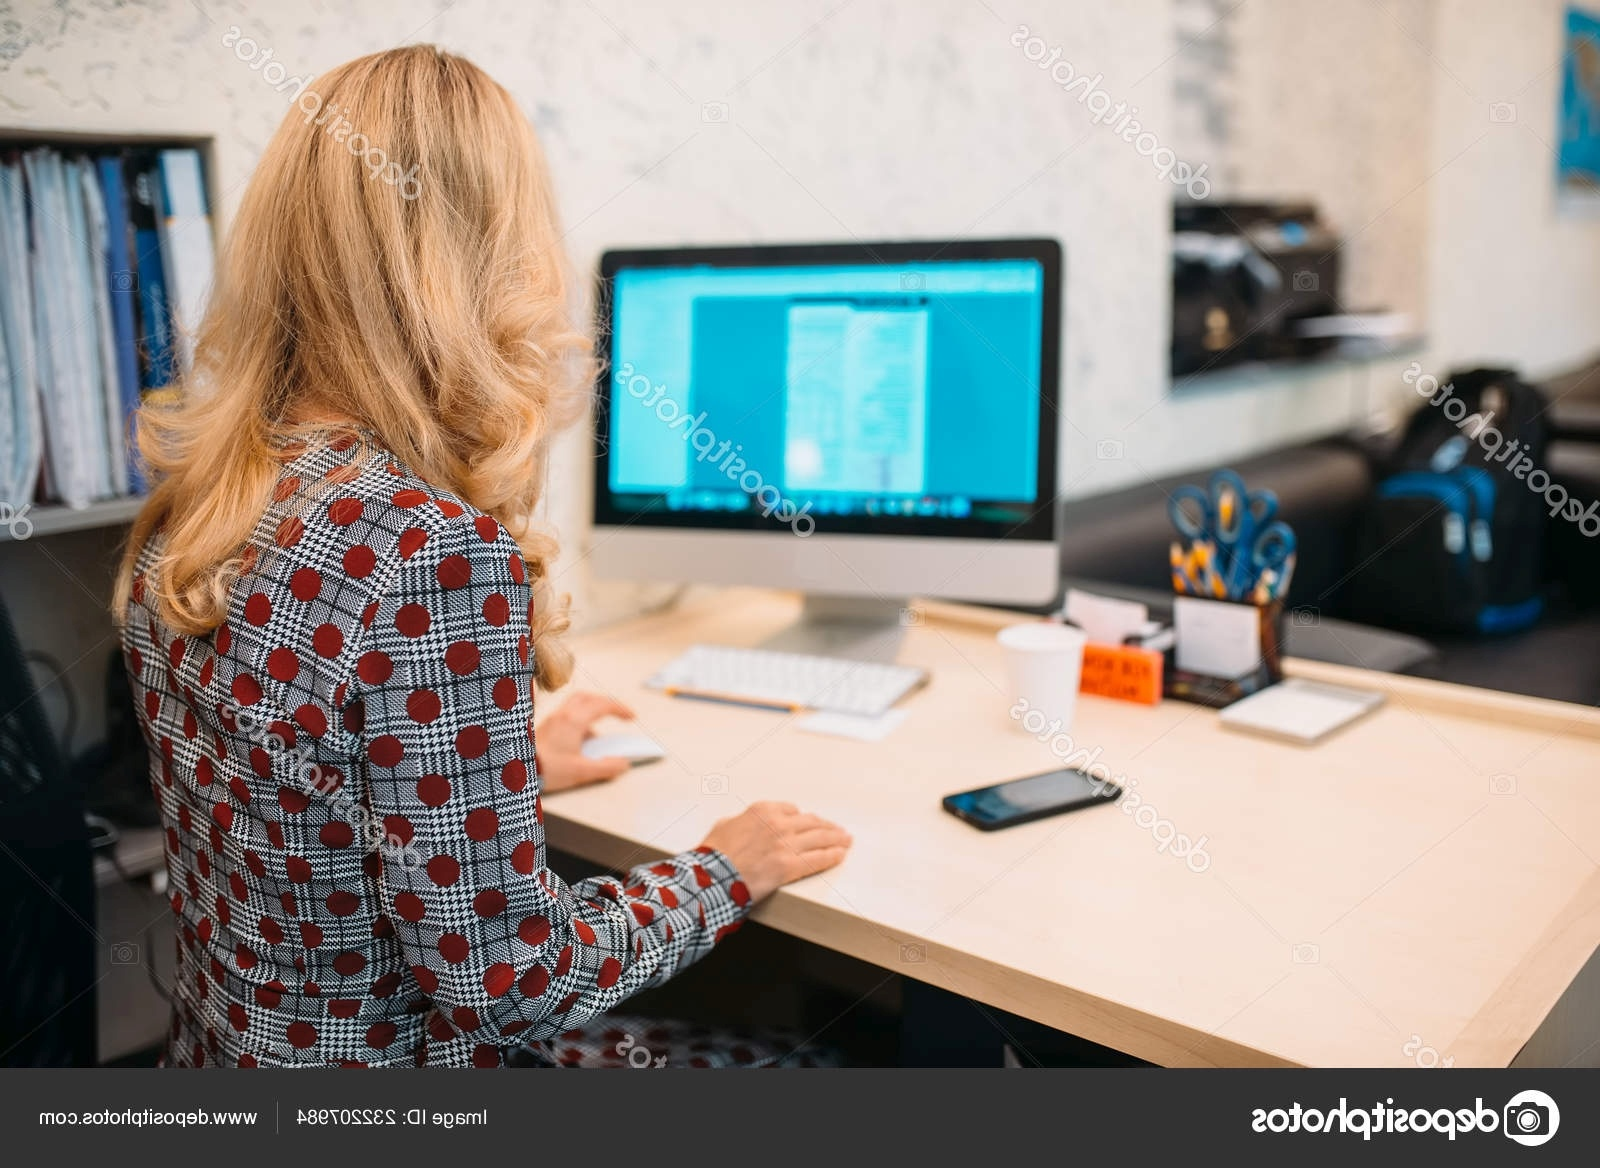not_fallen: (68, 24, 825, 1076)
